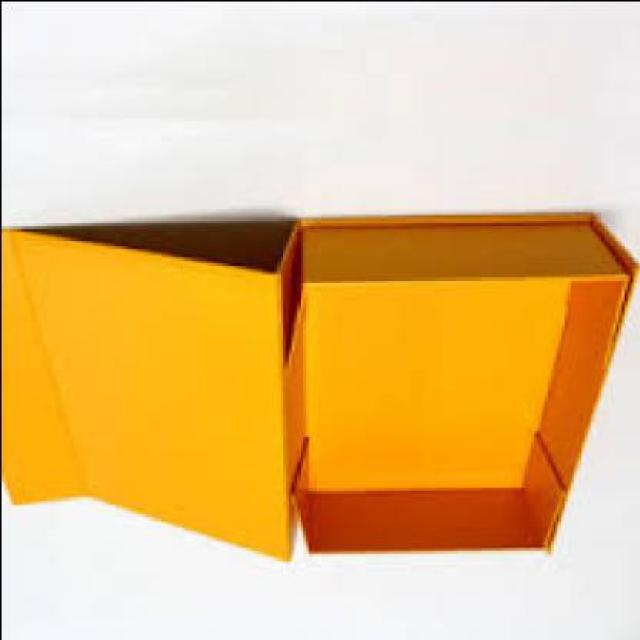CARDBOARD: (1, 212, 637, 565)
